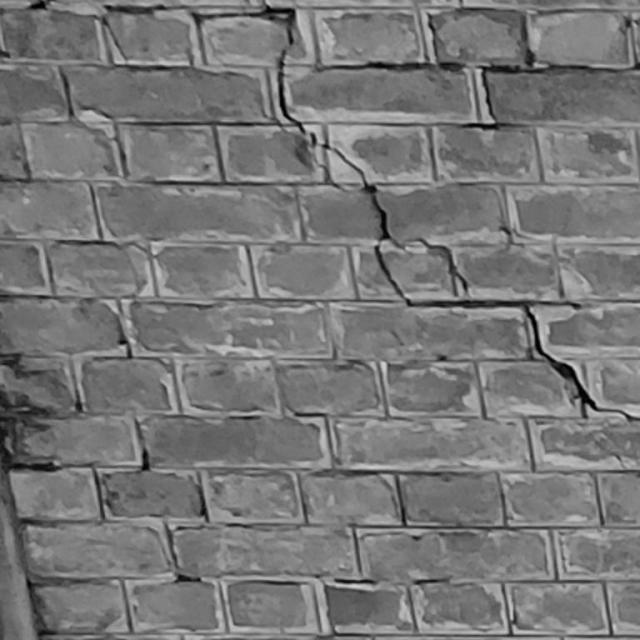crack: (248, 5, 638, 422)
